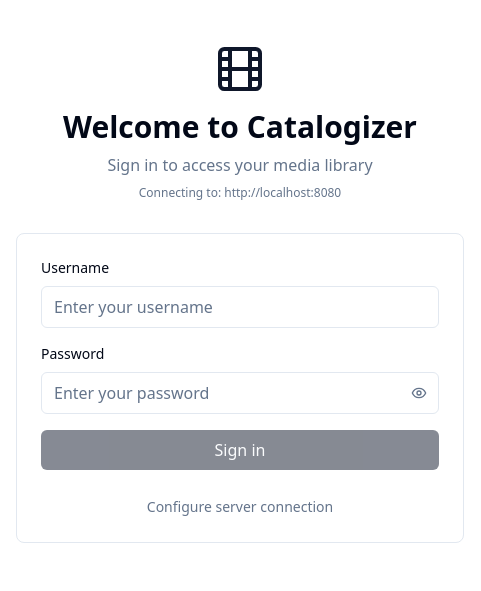
Test: LoginPage › shows error message on login failure
Step 1. Type "admin" into the field labelled "Username" → point(240, 307), box [41,286,439,328]
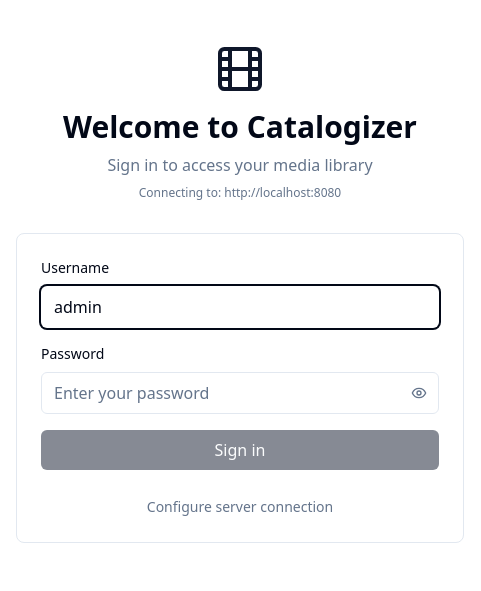
Step 2. Type "wrongpass" into the password field labelled "Password" → point(240, 393), box [41,372,439,414]
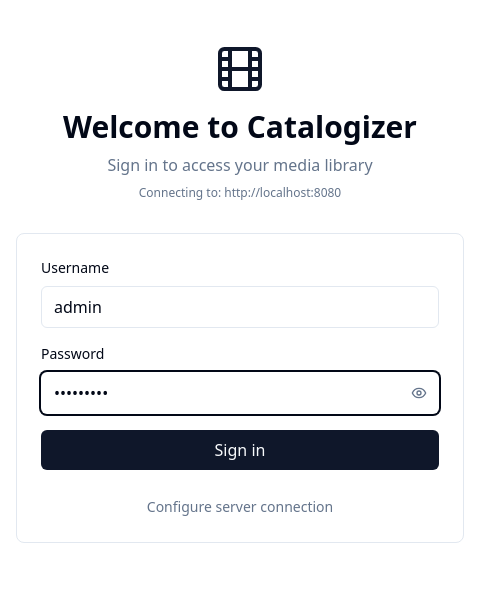
Step 3. Click the button "Sign in" → point(240, 450), box [41,430,439,470]
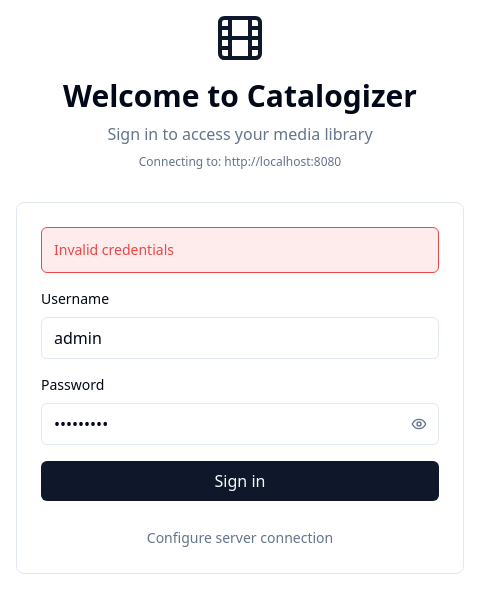
Result: the text "Invalid credentials" is shown at [41,227,439,273]
